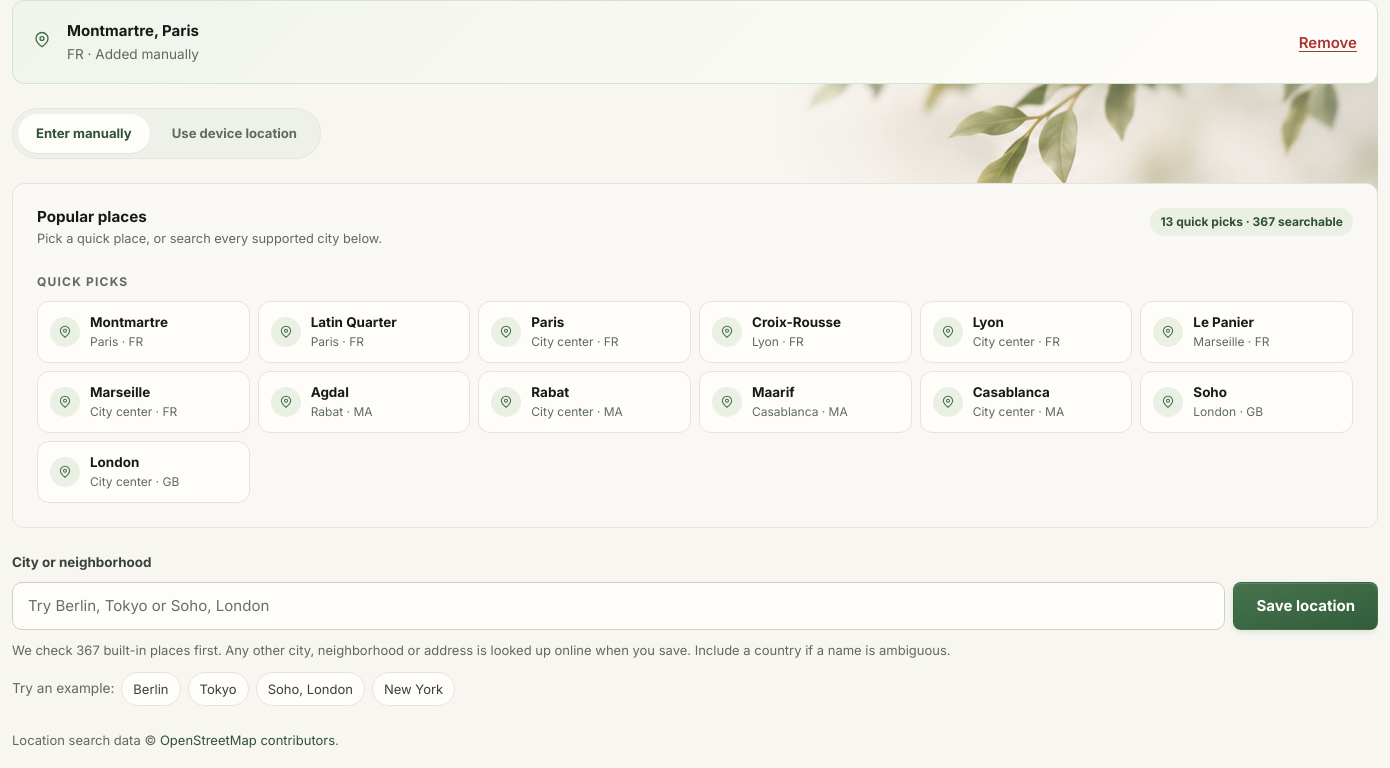
form city cancel requires an explicit choice
This screenshot has width=1390, height=768.
Click the tab "Use device location" at (234, 133), box [154,114,315,153]
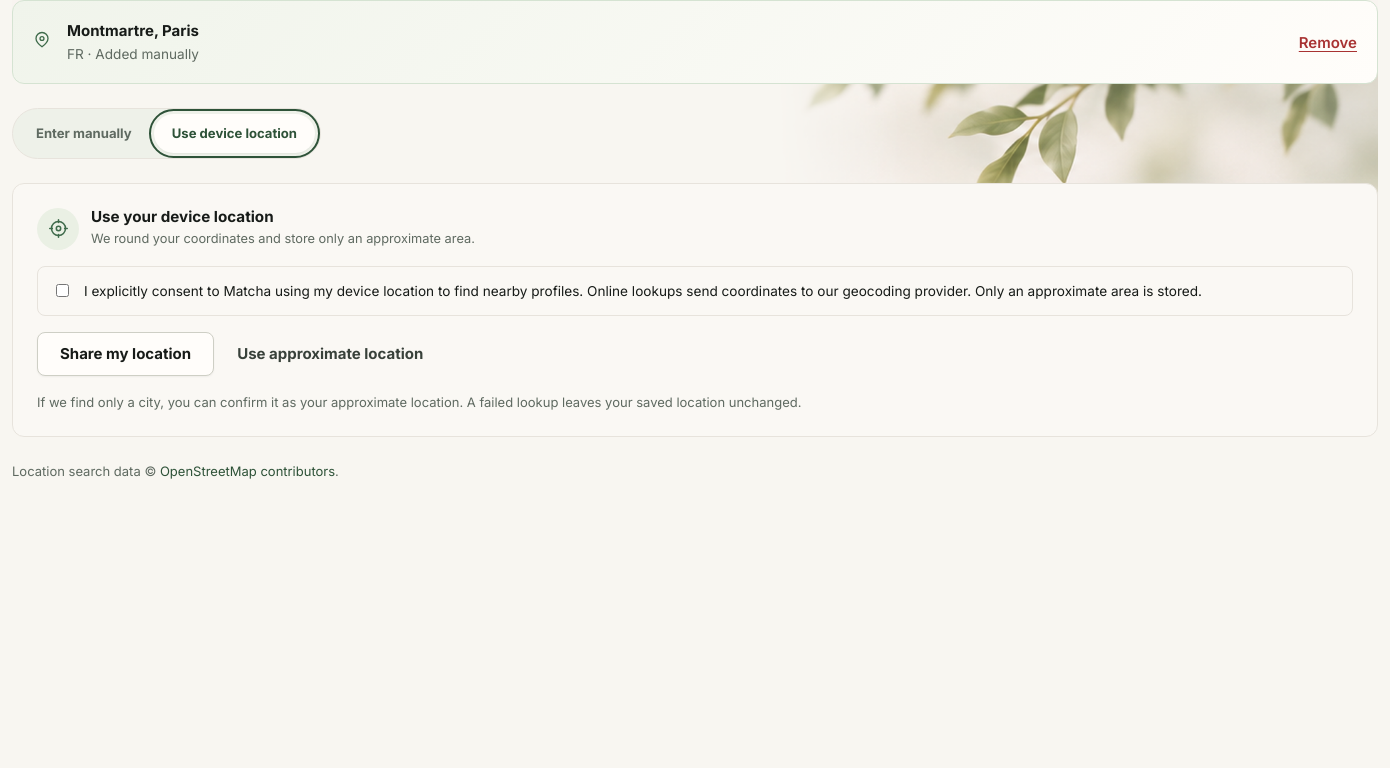
Click the checkbox at (62, 290), box [56,284,69,297]
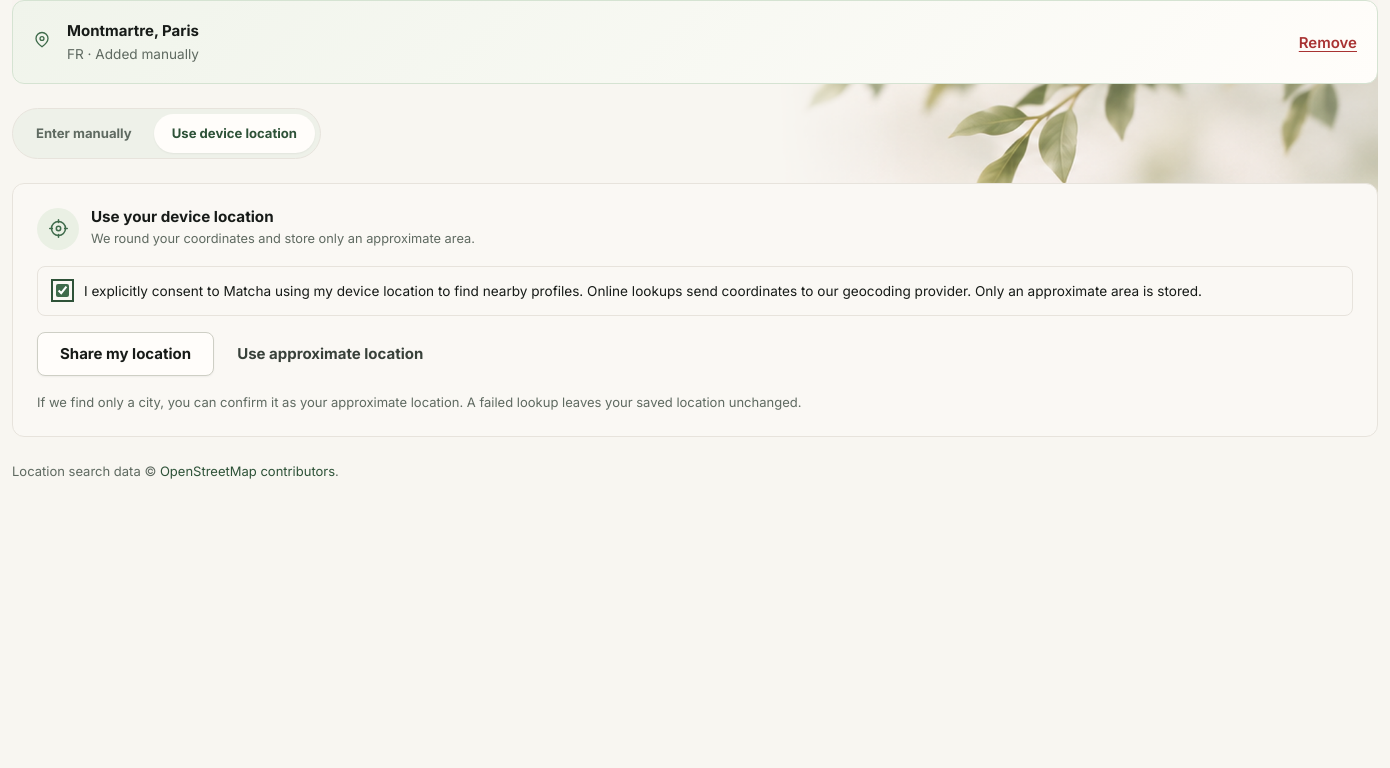
Click the button "Use approximate location" at (330, 354), box [214,332,446,376]
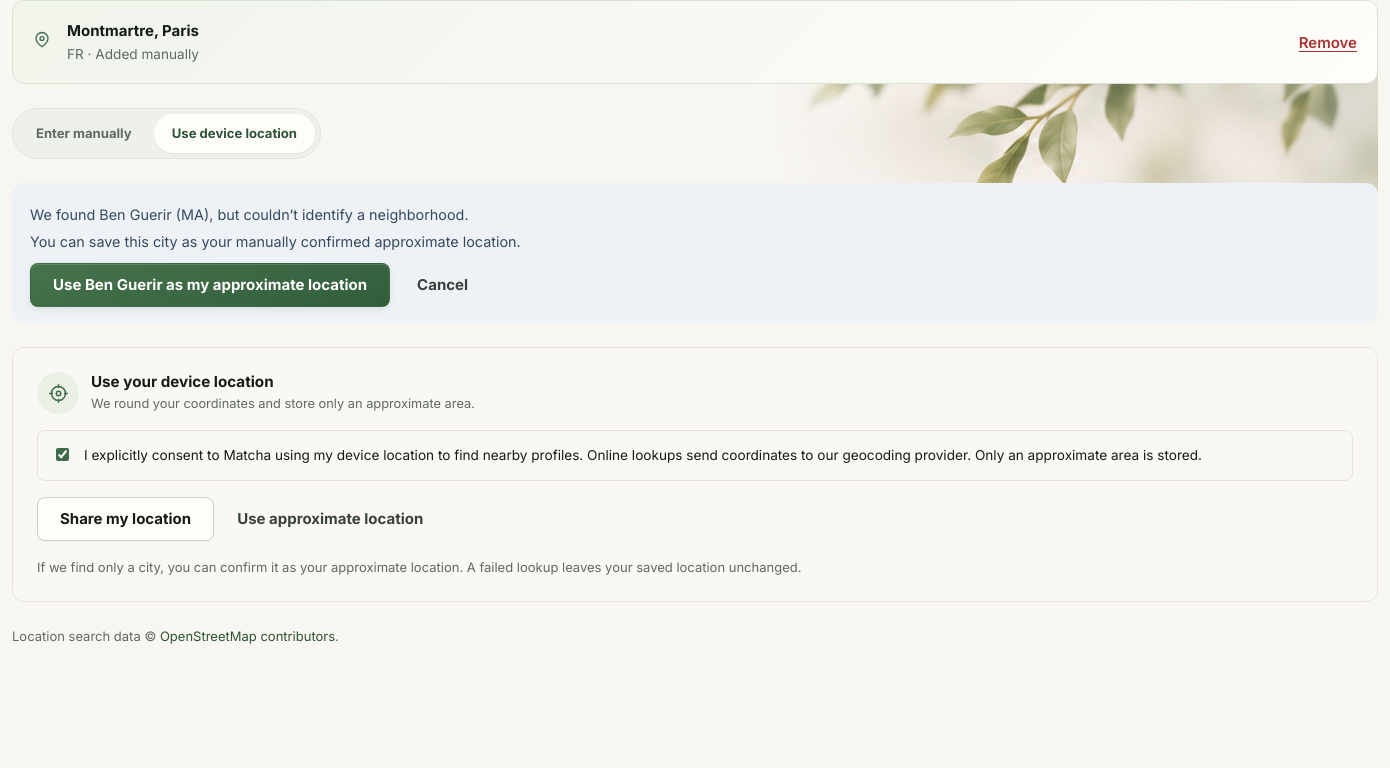
Click the button "Cancel" at (443, 285), box [394,263,491,307]
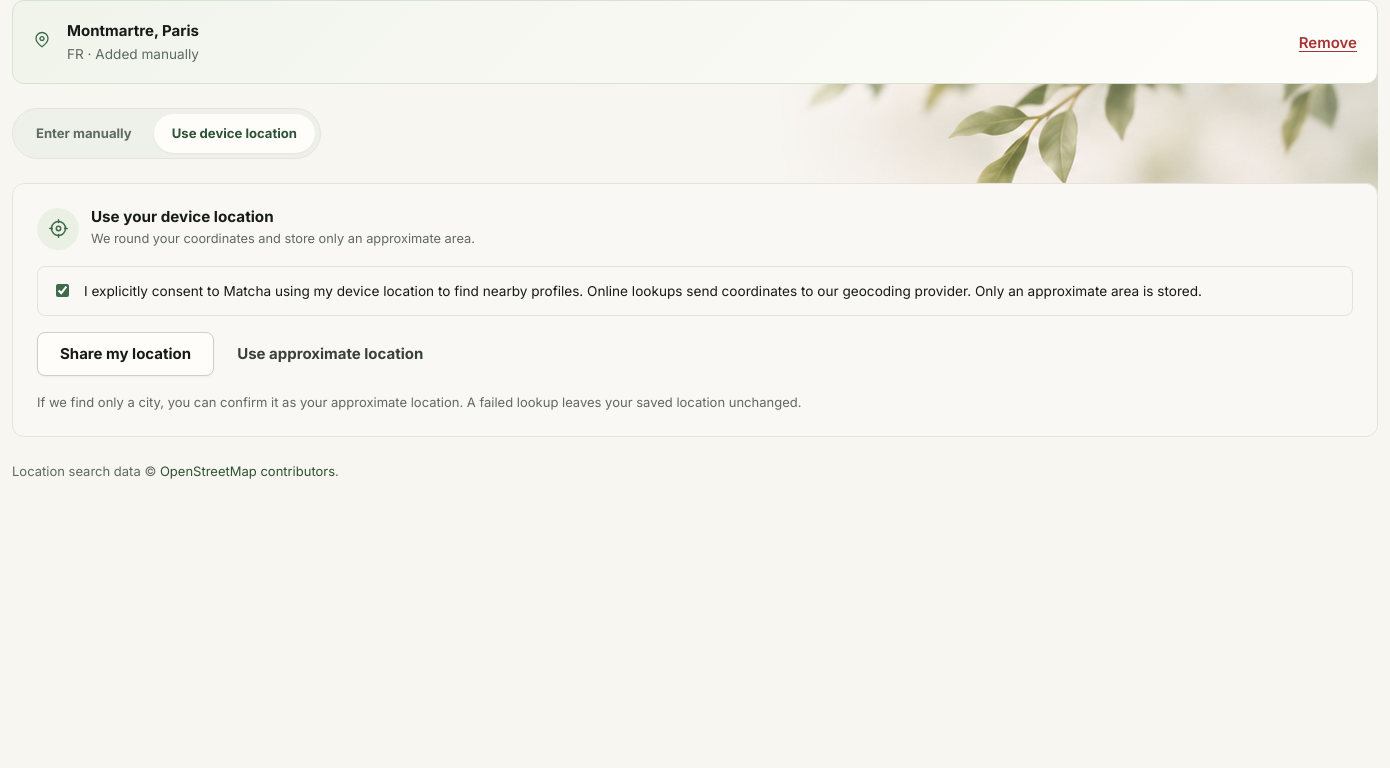
Check: the button "Use Ben Guerir as my approximate location" is gone
